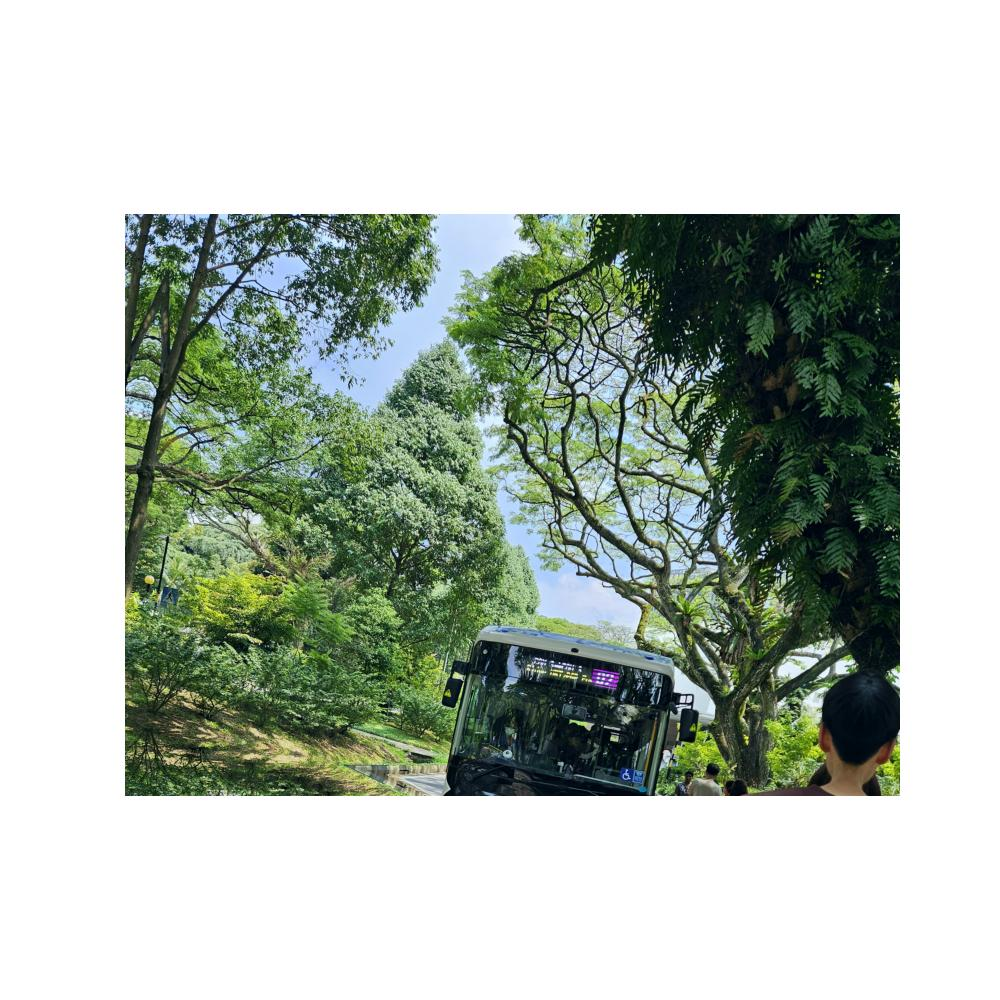bus: (441, 616, 700, 795)
